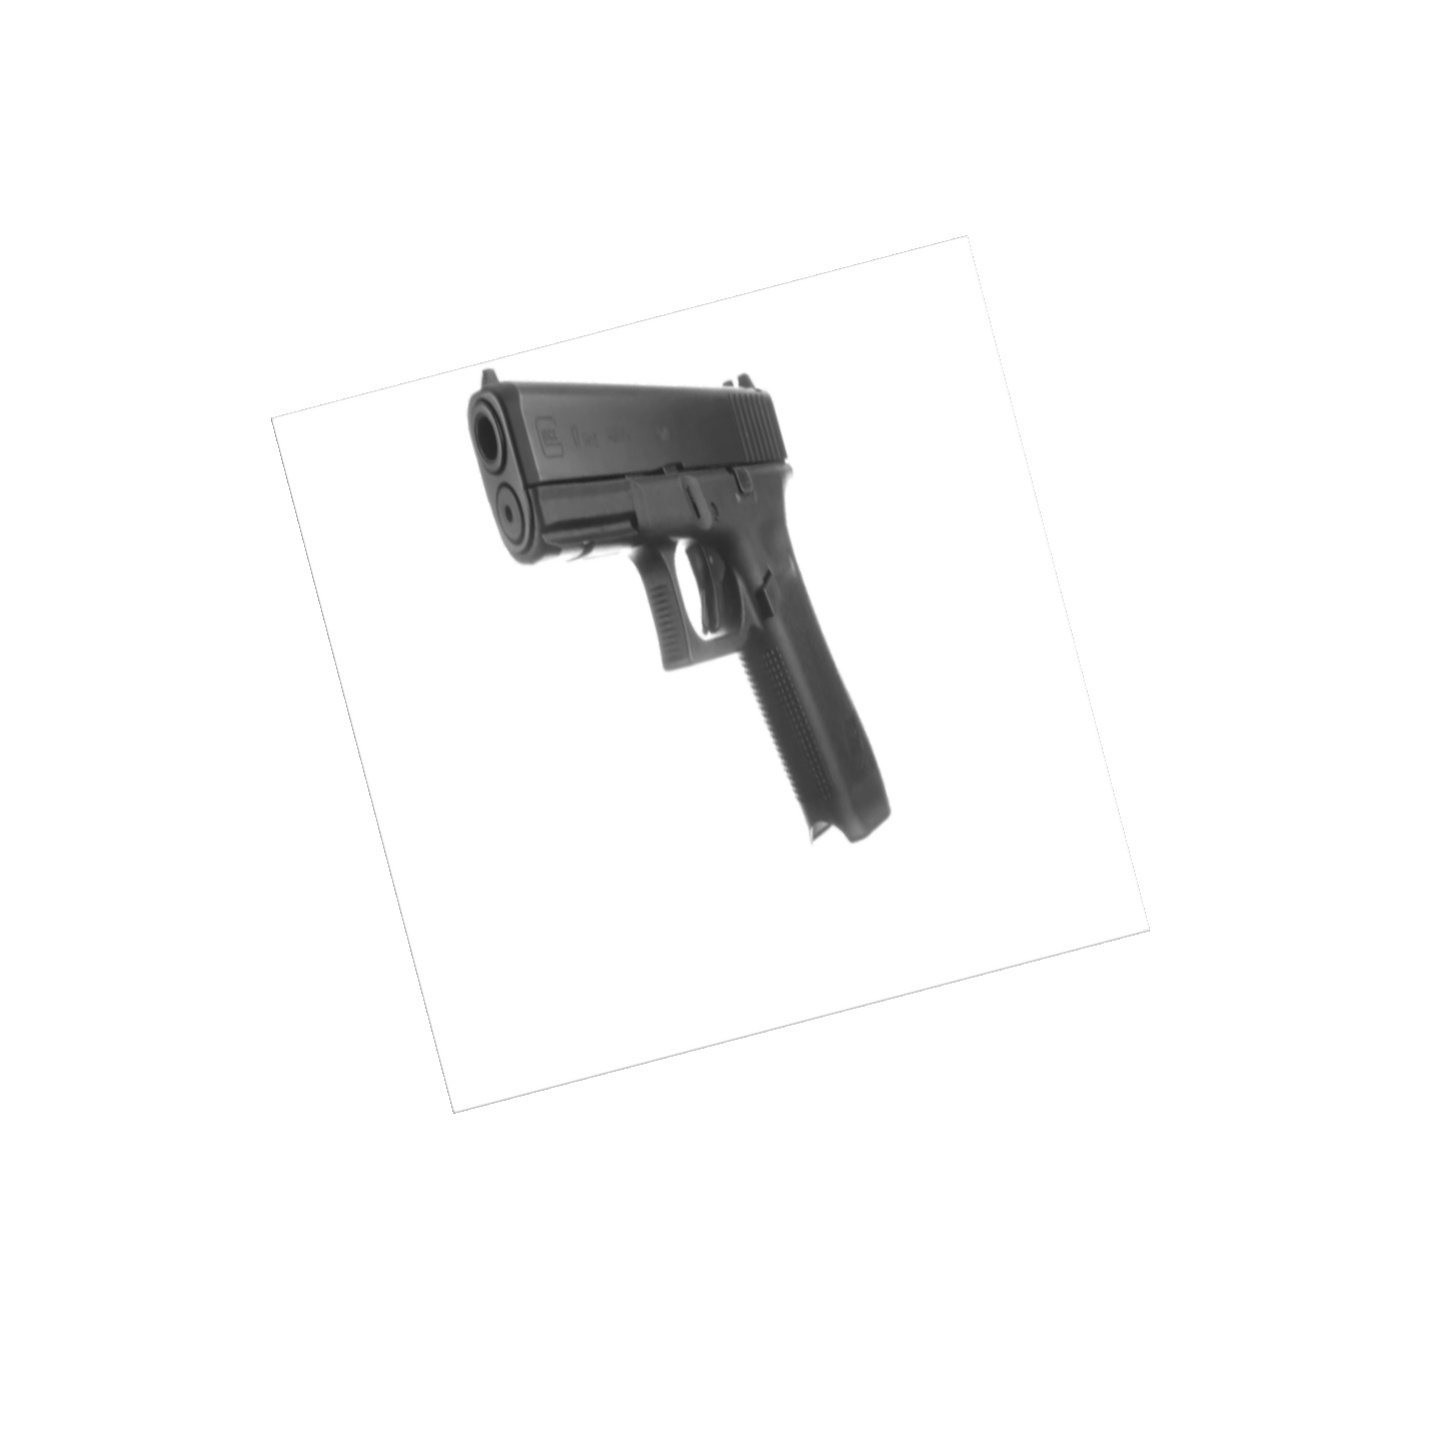gun: (454, 362, 899, 853)
